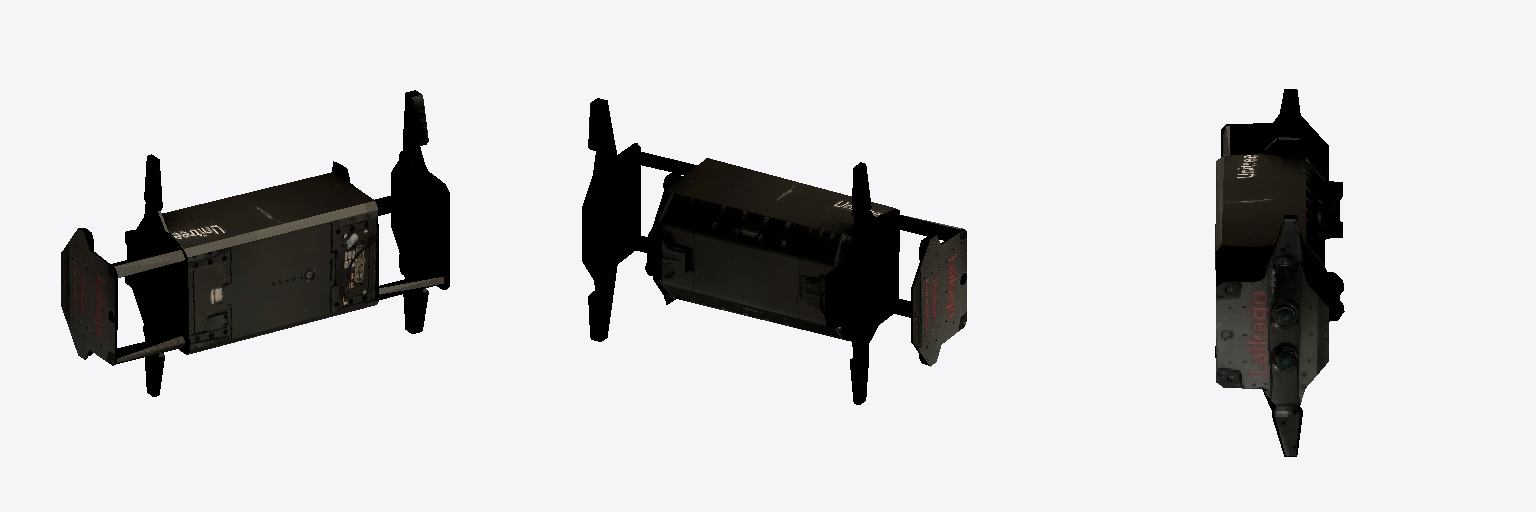
3 views of the same model, side by side, from view 1: azimuth 30°, elevation 25°; view 2: azimuth 150°, elevation 25°; view 3: azimuth 270°, elevation 25° (orthographic).
Visible parts, largest first — view 1: EXP_OTL_-_EXP_OTL_BDYR1_median.002; view 2: EXP_OTL_-_EXP_OTL_BDYR1_median.002; view 3: EXP_OTL_-_EXP_OTL_BDYR1_median.002.
Part boxes in pixels (left/top/right/bottom): EXP_OTL_-_EXP_OTL_BDYR1_median.002: left=61, top=90, right=449, bottom=396; EXP_OTL_-_EXP_OTL_BDYR1_median.002: left=582, top=98, right=966, bottom=404; EXP_OTL_-_EXP_OTL_BDYR1_median.002: left=1215, top=89, right=1344, bottom=456.
Size of the model in its own units: 0.5757 by 0.3843 by 0.1893.
1 materials, 1 textured.